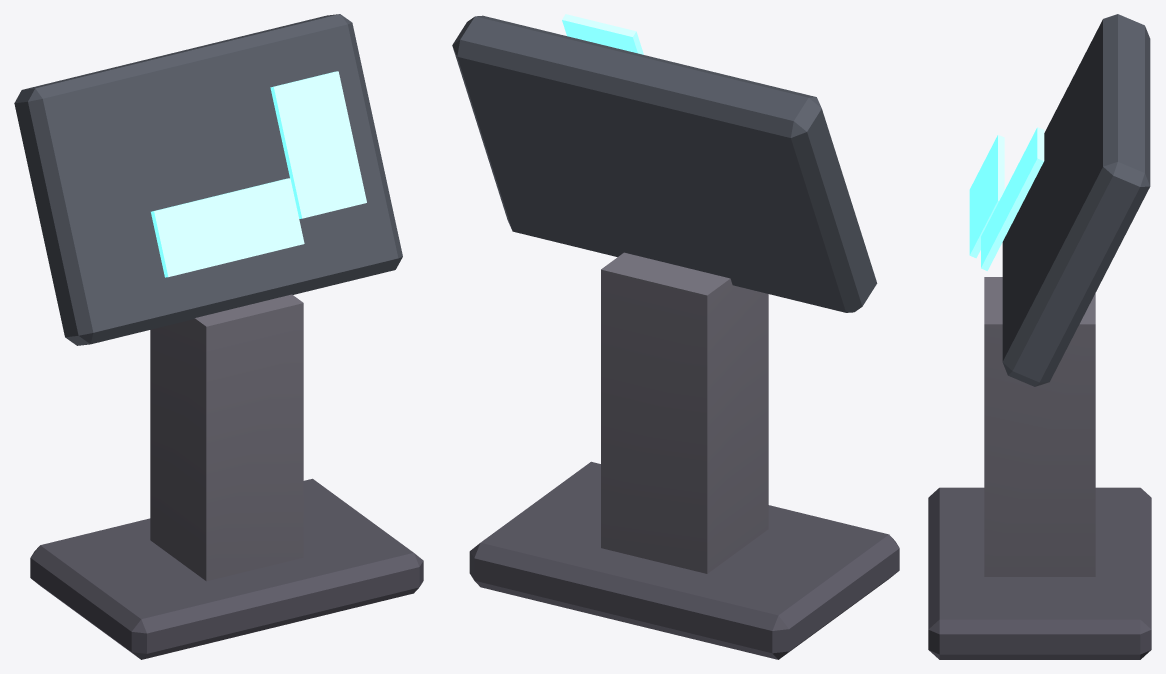
The model's file is stone_tablet.glb.
The picture shows the model from 3 angles, left to right: view 1: azimuth 30°, elevation 25°; view 2: azimuth 150°, elevation 25°; view 3: azimuth 270°, elevation 25°; orthographic projection. The views are drawn at different scales.
Parts seen in each view (by area): view 1: stone_tablet; view 2: stone_tablet; view 3: stone_tablet.
Boxes of the visible parts, x1,y1,x2,y2 form: stone_tablet: (14,14,423,659); stone_tablet: (452,14,899,659); stone_tablet: (928,14,1151,659).
Size of the model in its own units: 1 by 1.5 by 0.6.
